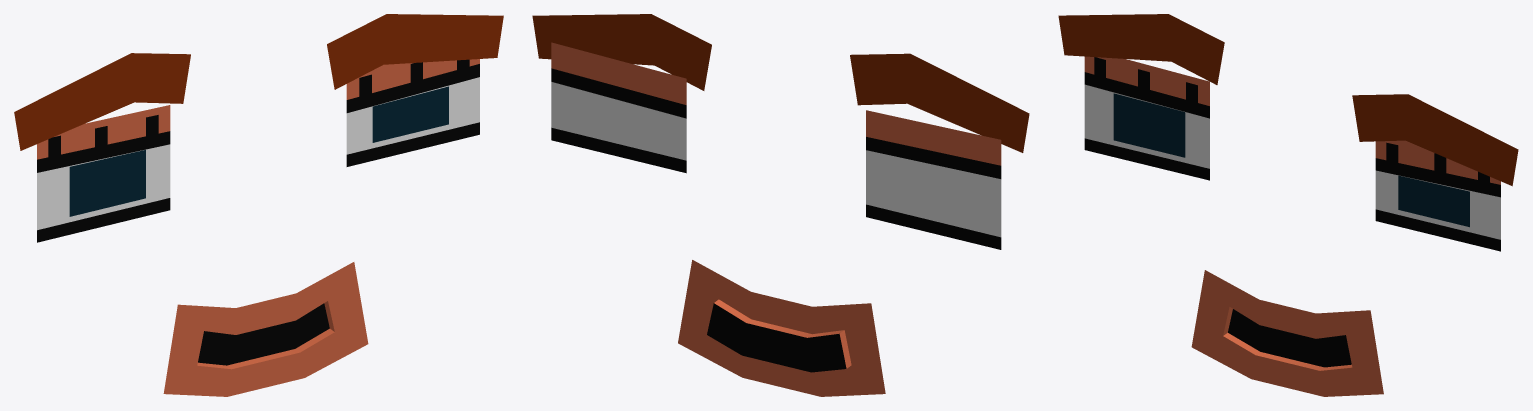
File: Face Female 10.FBX
The picture shows the model from 3 angles, left to right: view 1: azimuth 30°, elevation 25°; view 2: azimuth 150°, elevation 25°; view 3: azimuth 330°, elevation 25°; orthographic projection. The views are drawn at different scales.
Visible parts, largest first — view 1: Face Female 10; view 2: Face Female 10; view 3: Face Female 10.
Boxes of the visible parts, box(x1,y1,x2,y2) form: Face Female 10: box(14, 14, 503, 396); Face Female 10: box(532, 14, 1029, 396); Face Female 10: box(1058, 14, 1518, 396).
Size of the model in its own units: 43.82 by 31.08 by 1.01.
Materials: 1 (1 with a texture image).
